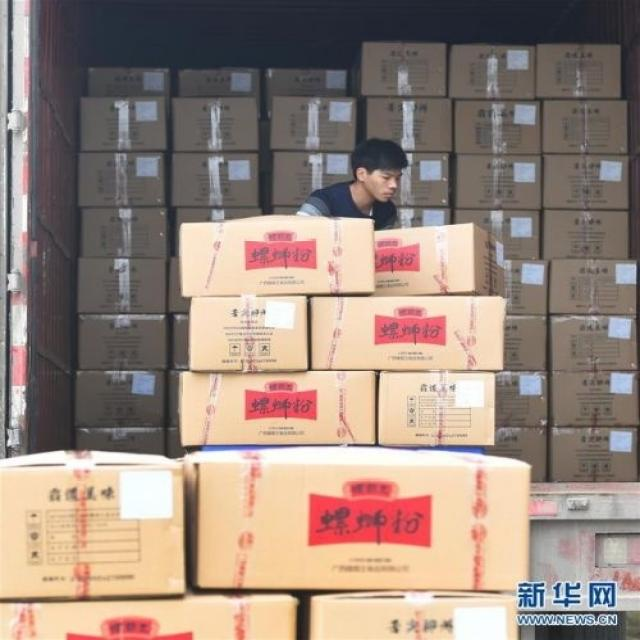box: (184, 446, 531, 594), (0, 448, 187, 601), (178, 219, 374, 297), (179, 371, 376, 446), (310, 296, 506, 371), (0, 592, 298, 640), (307, 592, 521, 640), (374, 221, 507, 297), (189, 296, 308, 372), (378, 371, 497, 446), (76, 369, 168, 427), (548, 314, 640, 371), (76, 256, 168, 313), (549, 371, 640, 427), (78, 314, 169, 370), (548, 257, 637, 314), (548, 427, 639, 481), (448, 44, 535, 100), (454, 153, 541, 209), (170, 152, 259, 206), (543, 154, 630, 209), (81, 96, 168, 151), (172, 96, 259, 151), (269, 96, 356, 151), (535, 43, 620, 99), (78, 152, 166, 206), (454, 100, 543, 153), (367, 97, 452, 152), (362, 42, 447, 96), (271, 151, 356, 205), (543, 100, 627, 154), (543, 209, 630, 259), (82, 208, 170, 257), (454, 209, 540, 259), (266, 70, 348, 117), (392, 153, 449, 206), (497, 372, 548, 428), (74, 427, 165, 454), (87, 67, 169, 96), (177, 68, 260, 96), (506, 315, 547, 371), (507, 260, 549, 314)
